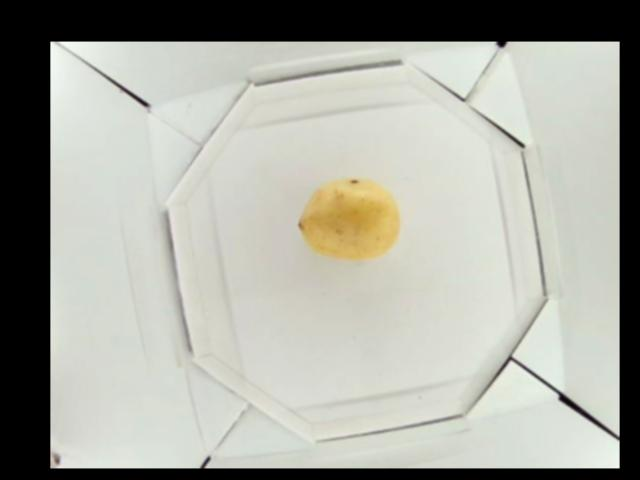Potato: (298, 177, 401, 258)
